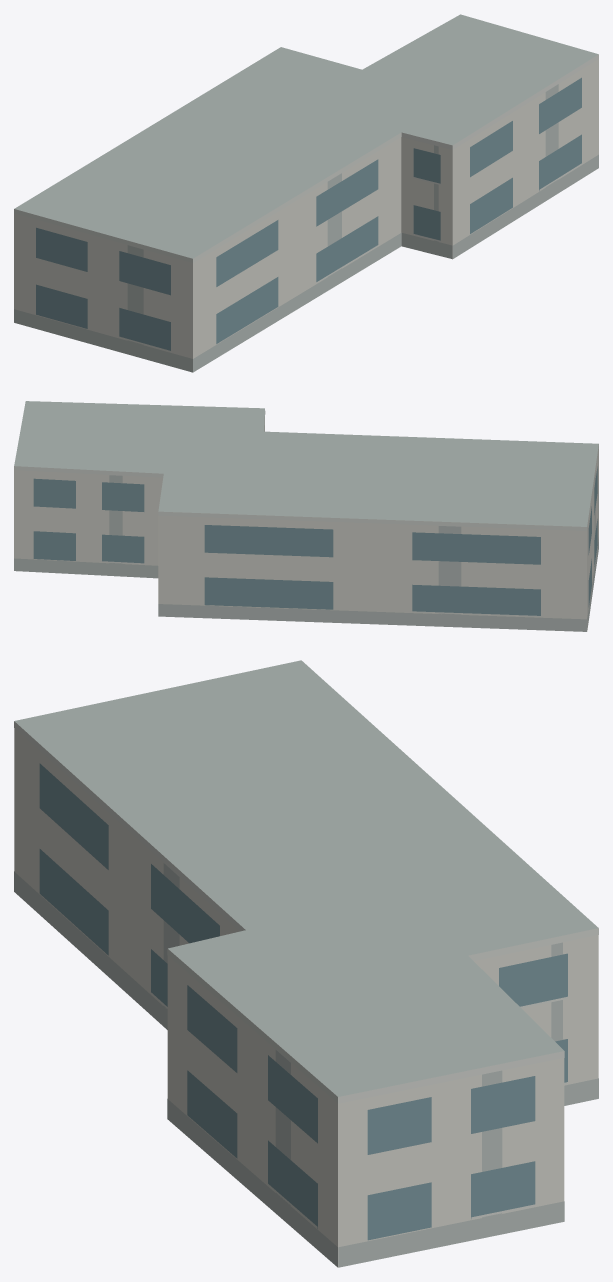
File: survey-upis-32708365.glb
3 renders of one model, top to bottom at view 1: azimuth 30°, elevation 25°; view 2: azimuth 150°, elevation 25°; view 3: azimuth 270°, elevation 25°, orthographic. The views are drawn at different scales.
Parts seen in each view (by area): view 1: survey-upis-32708365.tmp; view 2: survey-upis-32708365.tmp; view 3: survey-upis-32708365.tmp.
Boxes of the visible parts, <box> form: survey-upis-32708365.tmp: <box>14,14,598,372</box>; survey-upis-32708365.tmp: <box>14,401,598,631</box>; survey-upis-32708365.tmp: <box>14,660,598,1267</box>.
Bounding box in the file's own units: 33.49 × 6.1 × 18.95.
